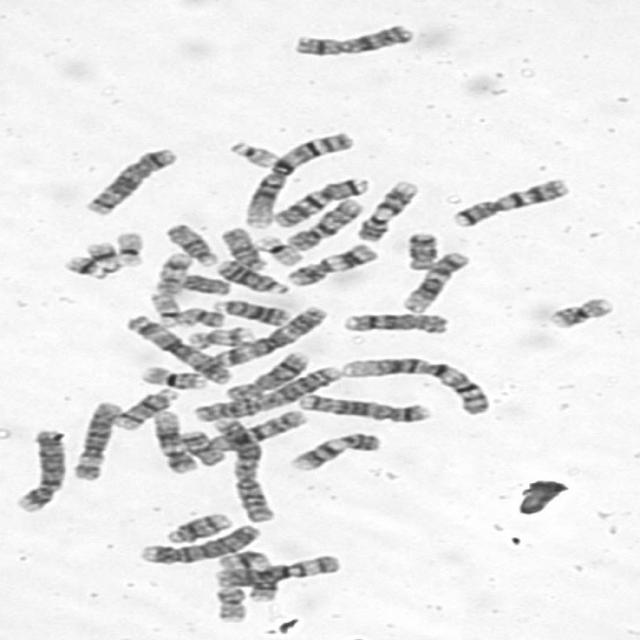A1: (238, 131, 356, 230), (336, 354, 492, 416)
A2: (189, 362, 344, 422), (207, 417, 274, 522)
A3: (190, 304, 330, 373), (122, 312, 234, 385)
B4: (135, 521, 263, 566), (12, 426, 67, 513)
B5: (81, 145, 180, 217), (295, 390, 432, 423)
C10: (203, 407, 311, 452), (282, 196, 365, 252)
C11: (281, 241, 379, 287), (218, 549, 276, 600)
C12: (398, 250, 472, 314), (149, 408, 197, 473)
C6: (210, 552, 344, 588), (67, 399, 124, 482)
C7: (445, 175, 573, 229), (268, 175, 372, 228)
C8: (222, 349, 312, 402), (338, 308, 451, 336)
C9: (352, 177, 421, 242), (287, 429, 384, 473)
D13: (212, 256, 290, 296), (209, 296, 290, 327)
D14: (110, 386, 180, 430), (160, 510, 233, 545)
D15: (160, 220, 218, 268), (217, 225, 269, 271)
E16: (543, 294, 615, 330), (137, 364, 208, 391)
E17: (150, 251, 194, 296), (184, 324, 256, 348)
E18: (174, 428, 227, 466), (403, 229, 439, 270)
F19: (251, 232, 306, 268), (112, 228, 146, 268)
F20: (212, 584, 250, 624), (174, 305, 226, 328)
G21: (61, 253, 110, 280), (82, 239, 120, 264)
G22: (224, 138, 280, 169), (146, 289, 182, 327)
X: (287, 21, 416, 58)
Y: (178, 271, 234, 297)
